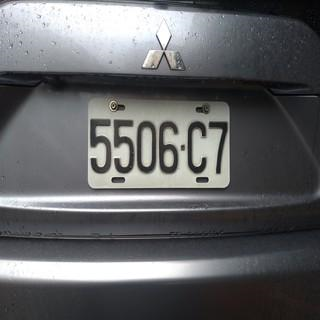license: (81, 109, 234, 189)
